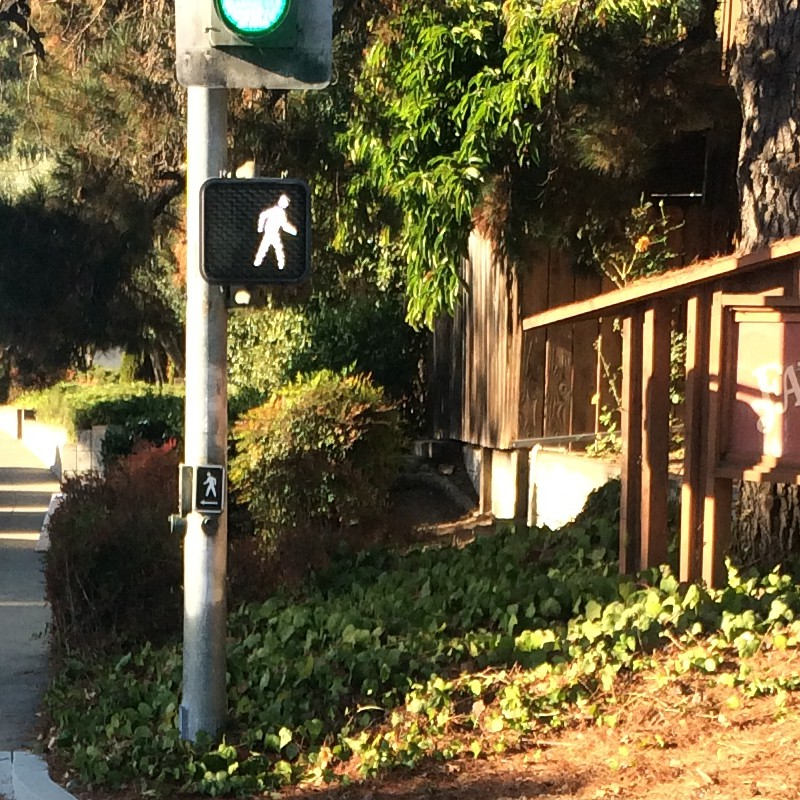go: (194, 175, 315, 288)
